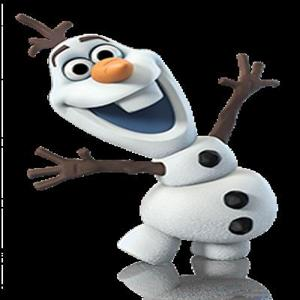olaf: (10, 12, 290, 296)
